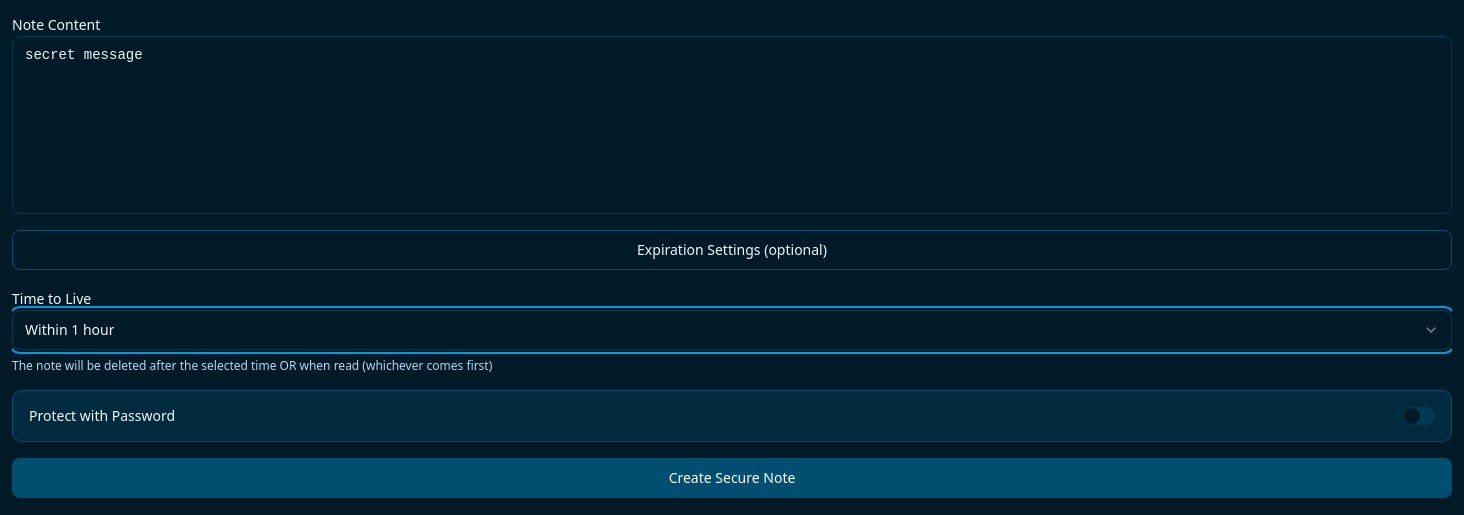
Scenario: CreateNoteForm › shows the expiration summary when ttl is configured
Earlier steps of the test are not shown.
Click the button "Expiration Settings (optional)" at (732, 250), box [12,230,1452,270]
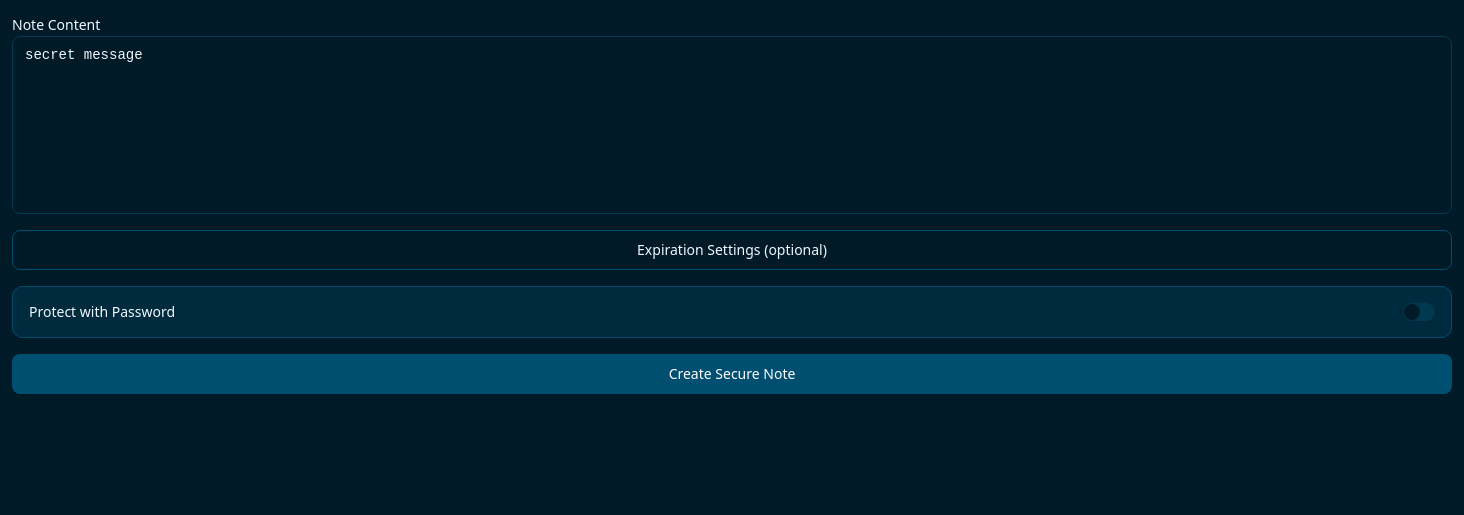
Click the button "Create Secure Note" at (732, 374), box [12,354,1452,394]
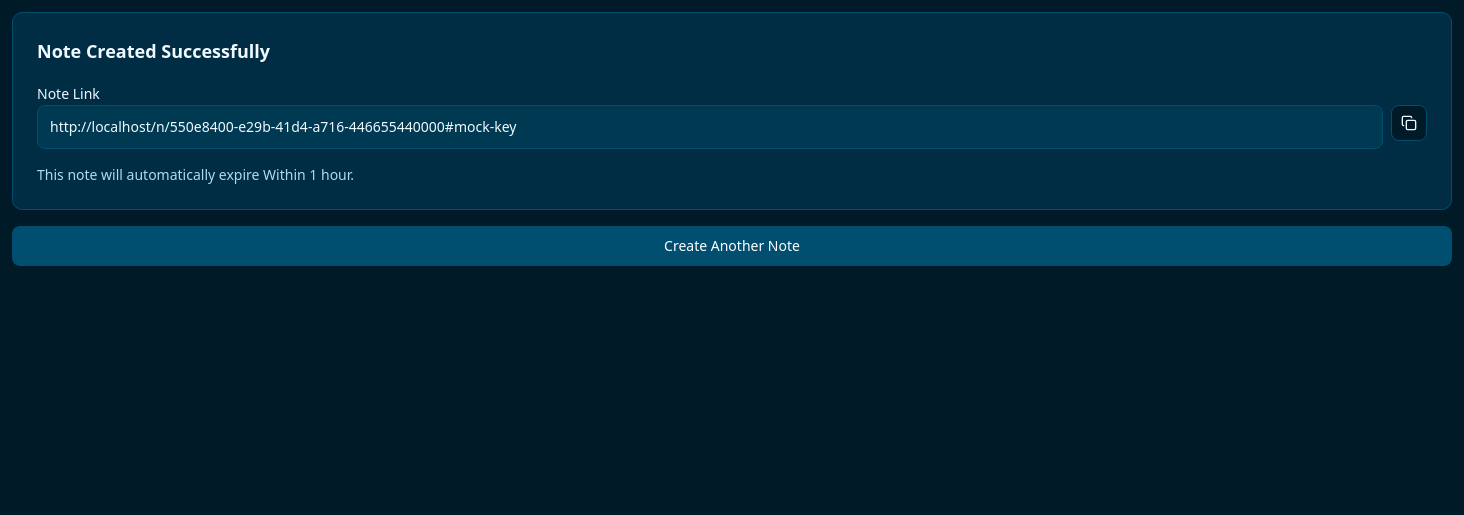
expect the text "This note will automatically expire Within 1 hour." is shown: met, box [37,165,354,184]
